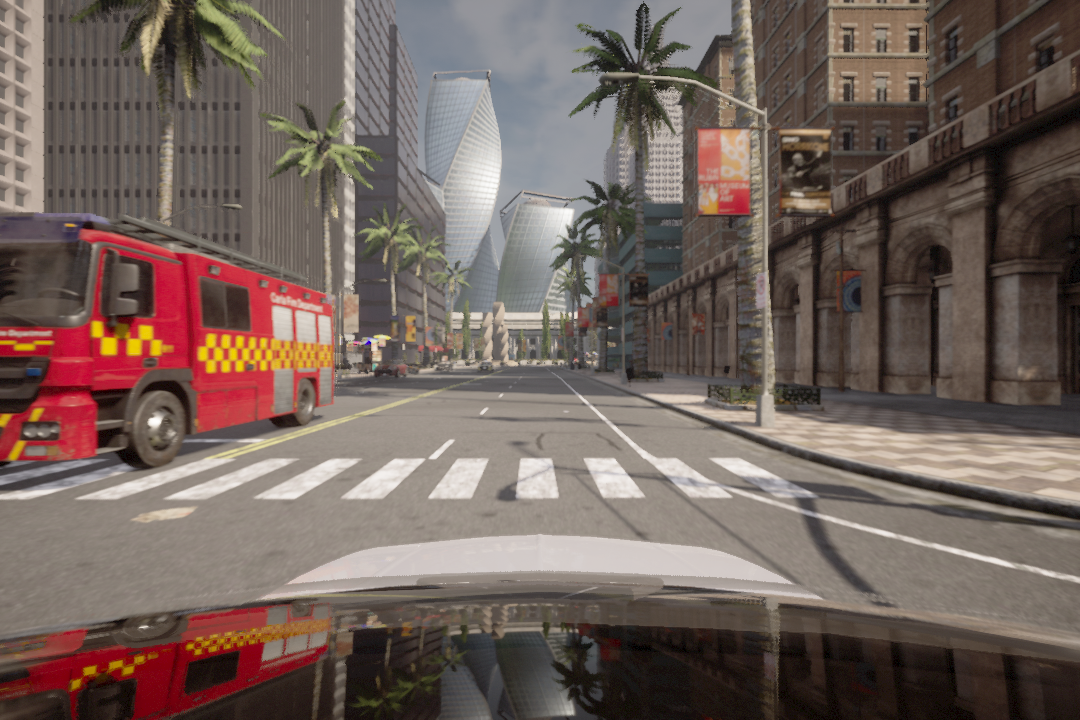walkside: (1, 447, 799, 517)
